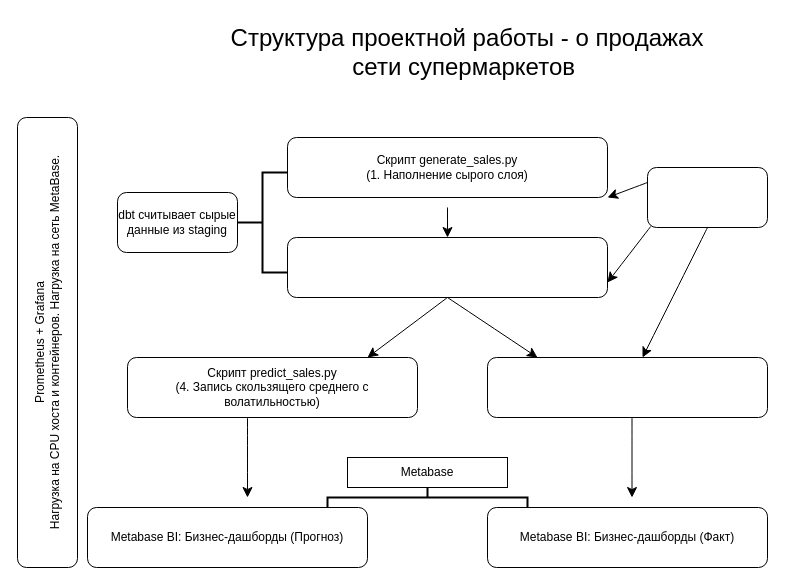
The diagram is 785 pixels wide and 585 high, and some of its shapes have lost their labels. Here are the shapes that lost their labels. From the top down, the centre of each, then its label:
At point (707, 197): "Apache Airflow (Оркестратор)".
At point (447, 267): "Схема staging.raw_transactions (2. dbt run: очистка, джоин справочников)".
At point (627, 387): "Схема analytics.mart_daily_sales (3. Python ML: считывание истории)".
